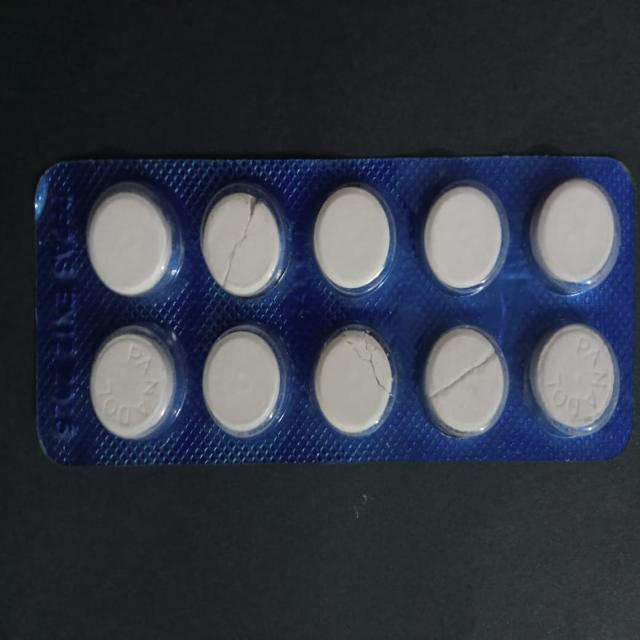defect: (419, 318, 511, 438), (201, 178, 288, 302), (310, 323, 396, 440)
